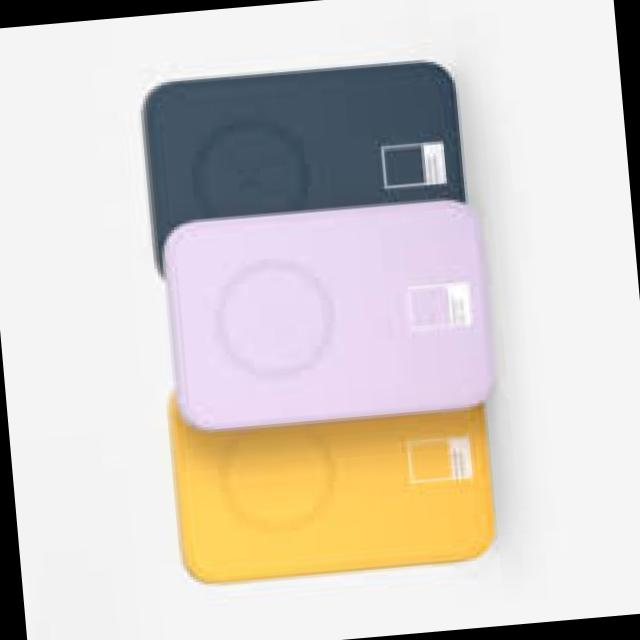portable-charger: (159, 192, 502, 436), (136, 52, 477, 278), (161, 363, 496, 588)
